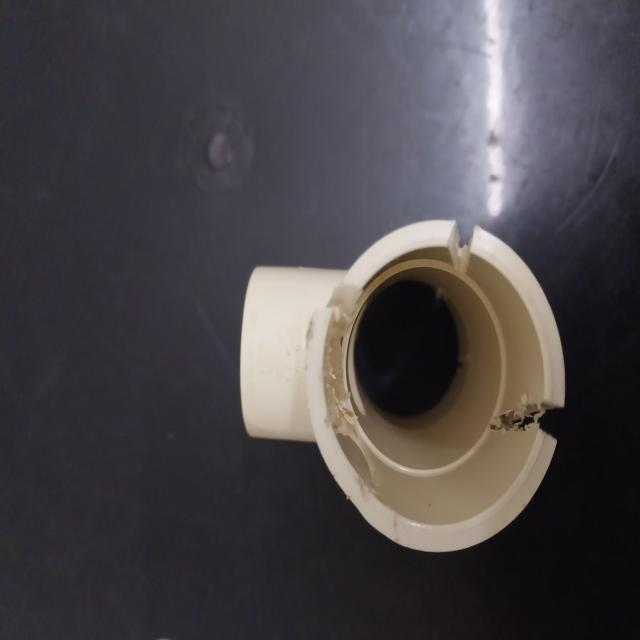Defective: (428, 211, 490, 277), (482, 403, 564, 452), (448, 222, 506, 273), (501, 407, 565, 441), (328, 284, 356, 318)
